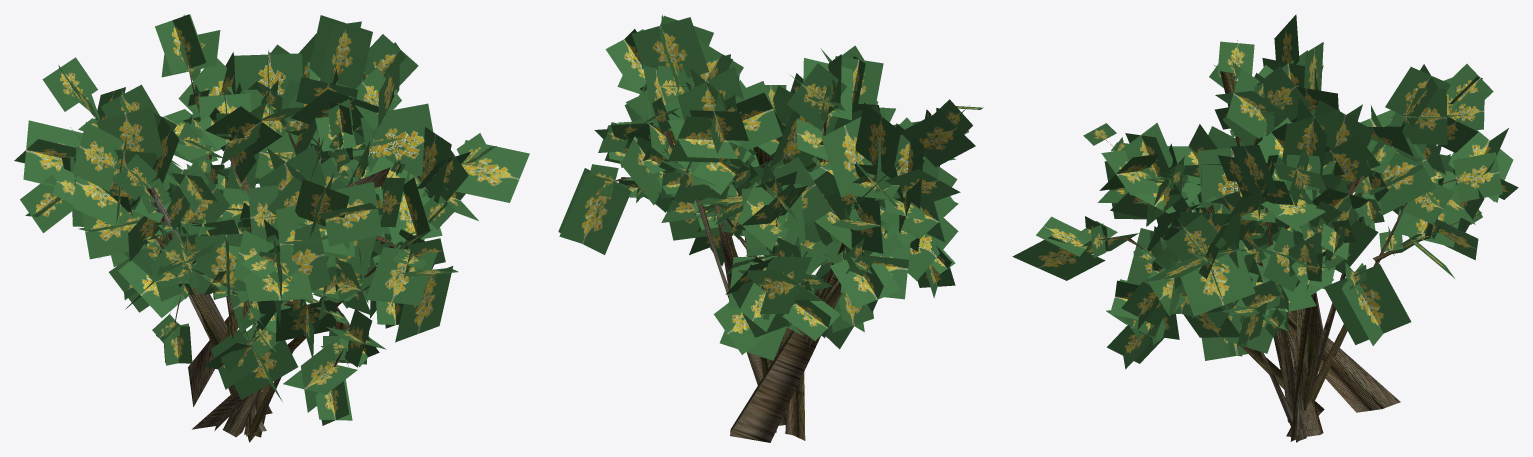
3 renders of one model, left to right at view 1: azimuth 30°, elevation 25°; view 2: azimuth 150°, elevation 25°; view 3: azimuth 270°, elevation 25°, orthographic. The views are drawn at different scales.
Parts seen in each view (by area): view 1: branches, branches.001; view 2: branches, branches.001; view 3: branches, branches.001.
Boxes of the visible parts, box(x1,y1,x2,y2) form: branches: box(14, 14, 529, 425); branches.001: box(82, 72, 462, 442); branches: box(558, 14, 983, 360); branches.001: box(612, 99, 874, 442); branches: box(1012, 14, 1518, 369); branches.001: box(1104, 71, 1463, 442).
Bounding box in the file's own units: 1.56 × 1.44 × 1.72.
Materials: 2 (2 with a texture image).
